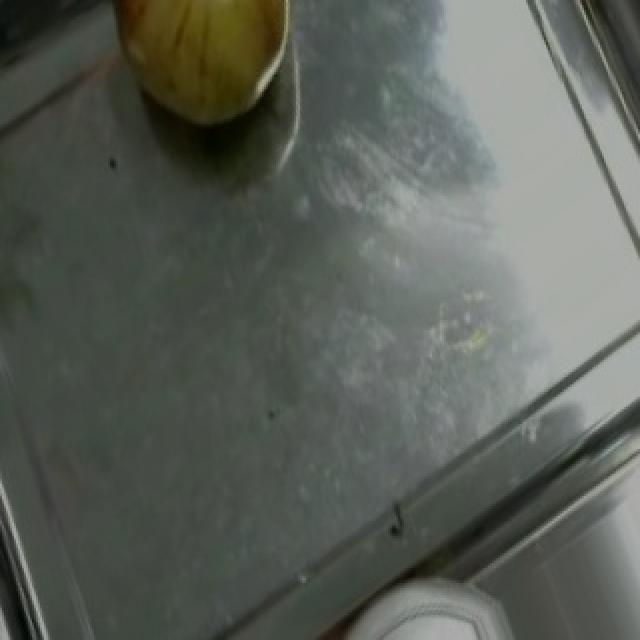fruit: (84, 0, 320, 149)
